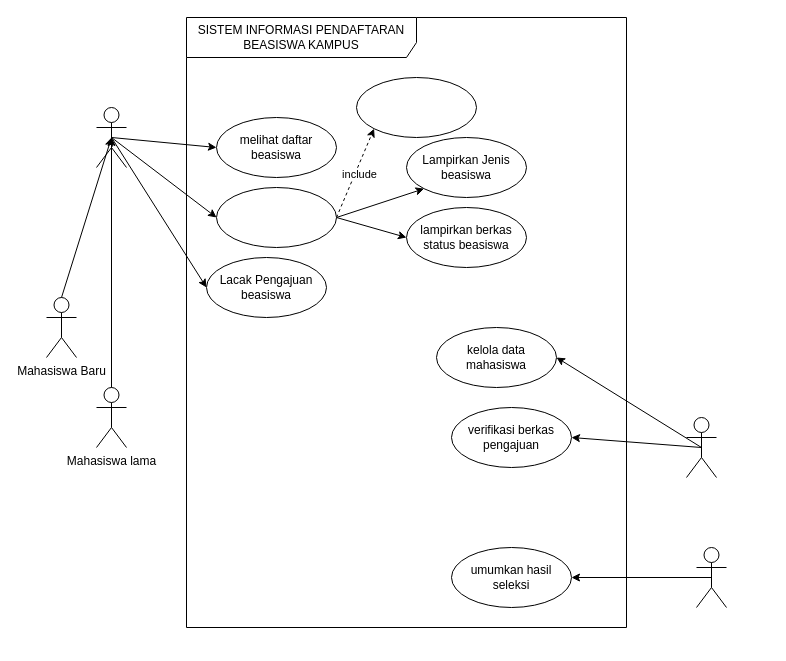
The diagram is 786 pixels wide and 661 high, and some of its shapes have lost their labels. The centre of each missing label's shape, as x and y in pixels:
"Ajukan Beasiswa" belongs at pixel 276 217.
"Pemohon" belongs at pixel 111 137.
"Periksa kelengkapan berkas" belongs at pixel 416 107.
"Petugas Kemahasiswaan" belongs at pixel 701 447.
"Tim Seleksi" belongs at pixel 711 577.
